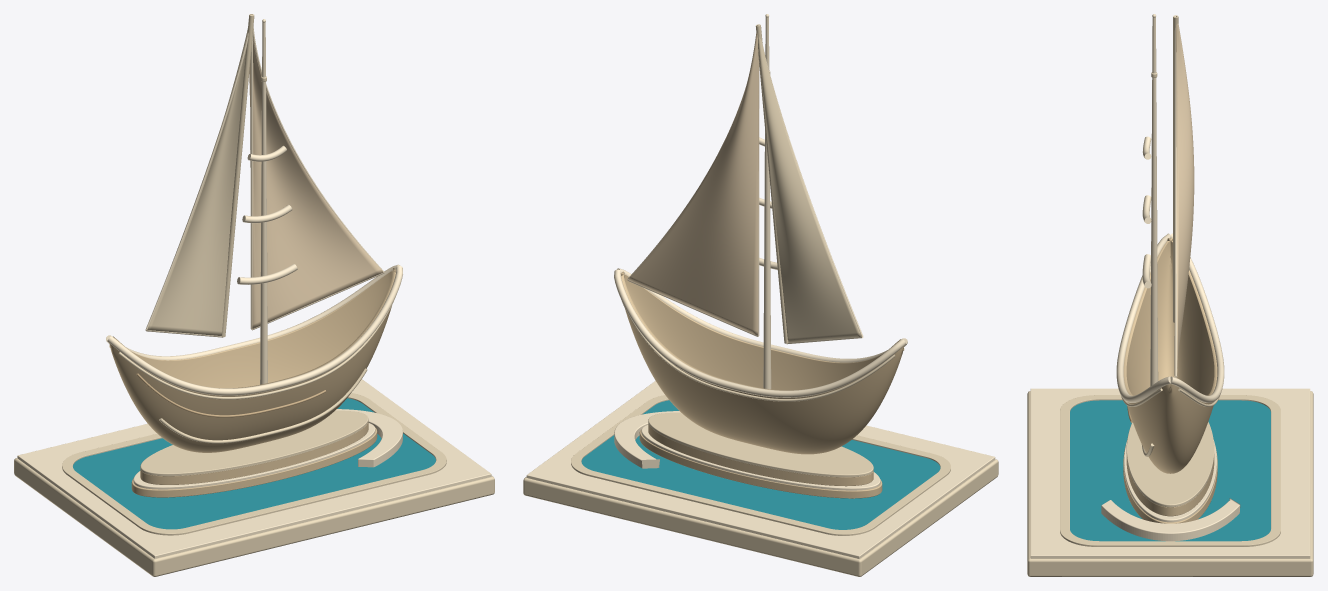
File: ca-mau.glb
3 renders of one model, left to right at view 1: azimuth 30°, elevation 25°; view 2: azimuth 150°, elevation 25°; view 3: azimuth 270°, elevation 25°, orthographic. The views are drawn at different scales.
Parts seen in each view (by area): view 1: BIEU_TUONG_DAT_MUI_V2; view 2: BIEU_TUONG_DAT_MUI_V2; view 3: BIEU_TUONG_DAT_MUI_V2.
Part boxes in pixels (bbox=[...]): BIEU_TUONG_DAT_MUI_V2: bbox=[14, 14, 494, 576]; BIEU_TUONG_DAT_MUI_V2: bbox=[523, 14, 998, 576]; BIEU_TUONG_DAT_MUI_V2: bbox=[1027, 14, 1313, 576].
Size of the model in its own units: 1.42 by 1.87 by 1.01.
